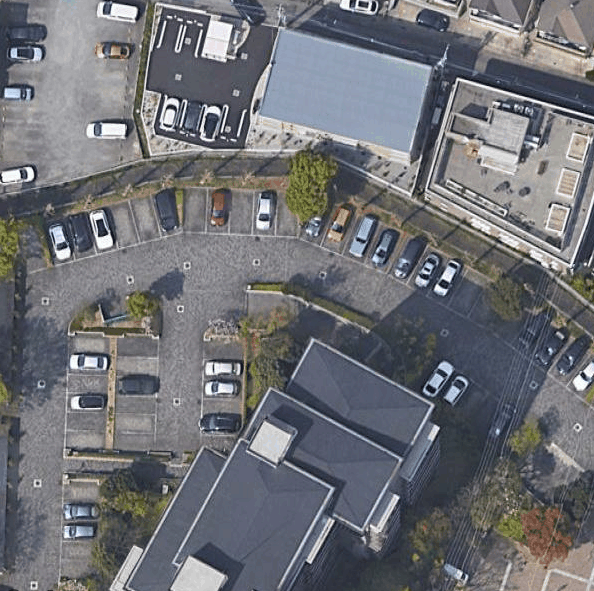facility: (411, 73, 592, 250)
